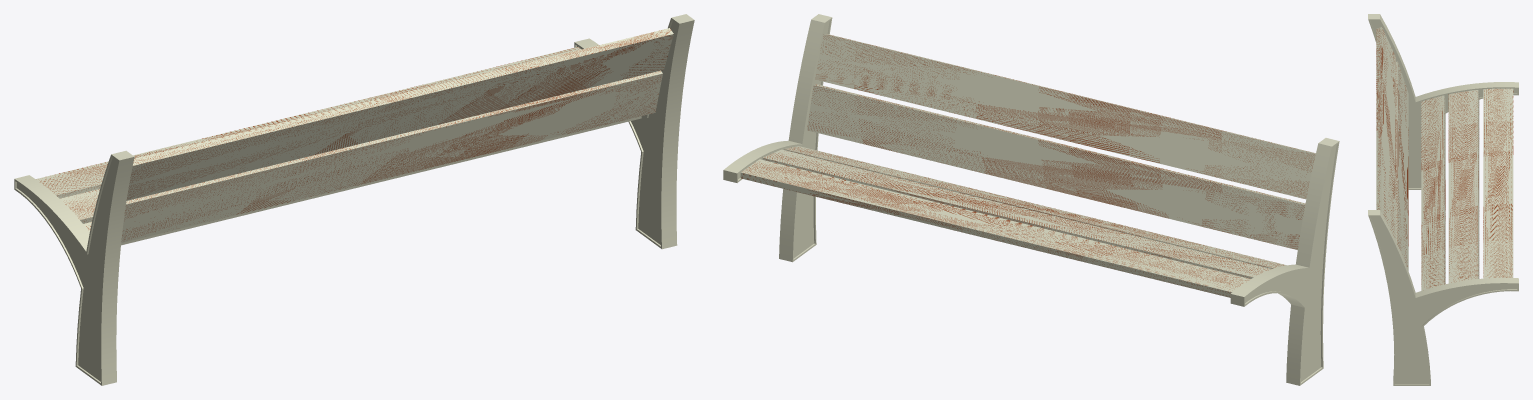
3 renders of one model, left to right at view 1: azimuth 30°, elevation 25°; view 2: azimuth 150°, elevation 25°; view 3: azimuth 270°, elevation 25°, orthographic. The views are drawn at different scales.
Parts seen in each view (by area): view 1: mesh10_mesh10-geometry, mesh9_mesh9-geometry, mesh5_mesh5-geometry, mesh1_mesh1-geometry, mesh11_mesh11-geometry, mesh13_mesh13-geometry, mesh12_mesh12-geometry; view 2: mesh10_mesh10-geometry, mesh9_mesh9-geometry, mesh11_mesh11-geometry, mesh5_mesh5-geometry, mesh12_mesh12-geometry, mesh1_mesh1-geometry, mesh13_mesh13-geometry; view 3: mesh1_mesh1-geometry, mesh12_mesh12-geometry, mesh11_mesh11-geometry, mesh13_mesh13-geometry, mesh9_mesh9-geometry, mesh5_mesh5-geometry, mesh10_mesh10-geometry.
Boxes of the visible parts, x1=… form: mesh10_mesh10-geometry: x1=121, y1=70, x2=662, y2=242; mesh9_mesh9-geometry: x1=126, y1=28, x2=673, y2=200; mesh5_mesh5-geometry: x1=14, y1=150, x2=134, y2=385; mesh1_mesh1-geometry: x1=574, y1=14, x2=694, y2=249; mesh11_mesh11-geometry: x1=36, y1=47, x2=581, y2=198; mesh13_mesh13-geometry: x1=83, y1=116, x2=641, y2=245; mesh12_mesh12-geometry: x1=60, y1=189, x2=99, y2=223; mesh10_mesh10-geometry: x1=807, y1=84, x2=1305, y2=249; mesh9_mesh9-geometry: x1=814, y1=34, x2=1315, y2=199; mesh11_mesh11-geometry: x1=740, y1=159, x2=1250, y2=297; mesh5_mesh5-geometry: x1=1230, y1=138, x2=1339, y2=385; mesh12_mesh12-geometry: x1=762, y1=149, x2=1271, y2=278; mesh1_mesh1-geometry: x1=723, y1=14, x2=832, y2=262; mesh13_mesh13-geometry: x1=784, y1=146, x2=1286, y2=268; mesh1_mesh1-geometry: x1=1368, y1=210, x2=1518, y2=385; mesh12_mesh12-geometry: x1=1448, y1=90, x2=1479, y2=283; mesh11_mesh11-geometry: x1=1483, y1=88, x2=1513, y2=278; mesh13_mesh13-geometry: x1=1421, y1=95, x2=1445, y2=290; mesh9_mesh9-geometry: x1=1376, y1=27, x2=1395, y2=240; mesh5_mesh5-geometry: x1=1368, y1=14, x2=1518, y2=189; mesh10_mesh10-geometry: x1=1396, y1=61, x2=1408, y2=270.
Bounding box in the file's own units: 0.8919 × 0.3531 × 0.2825.
